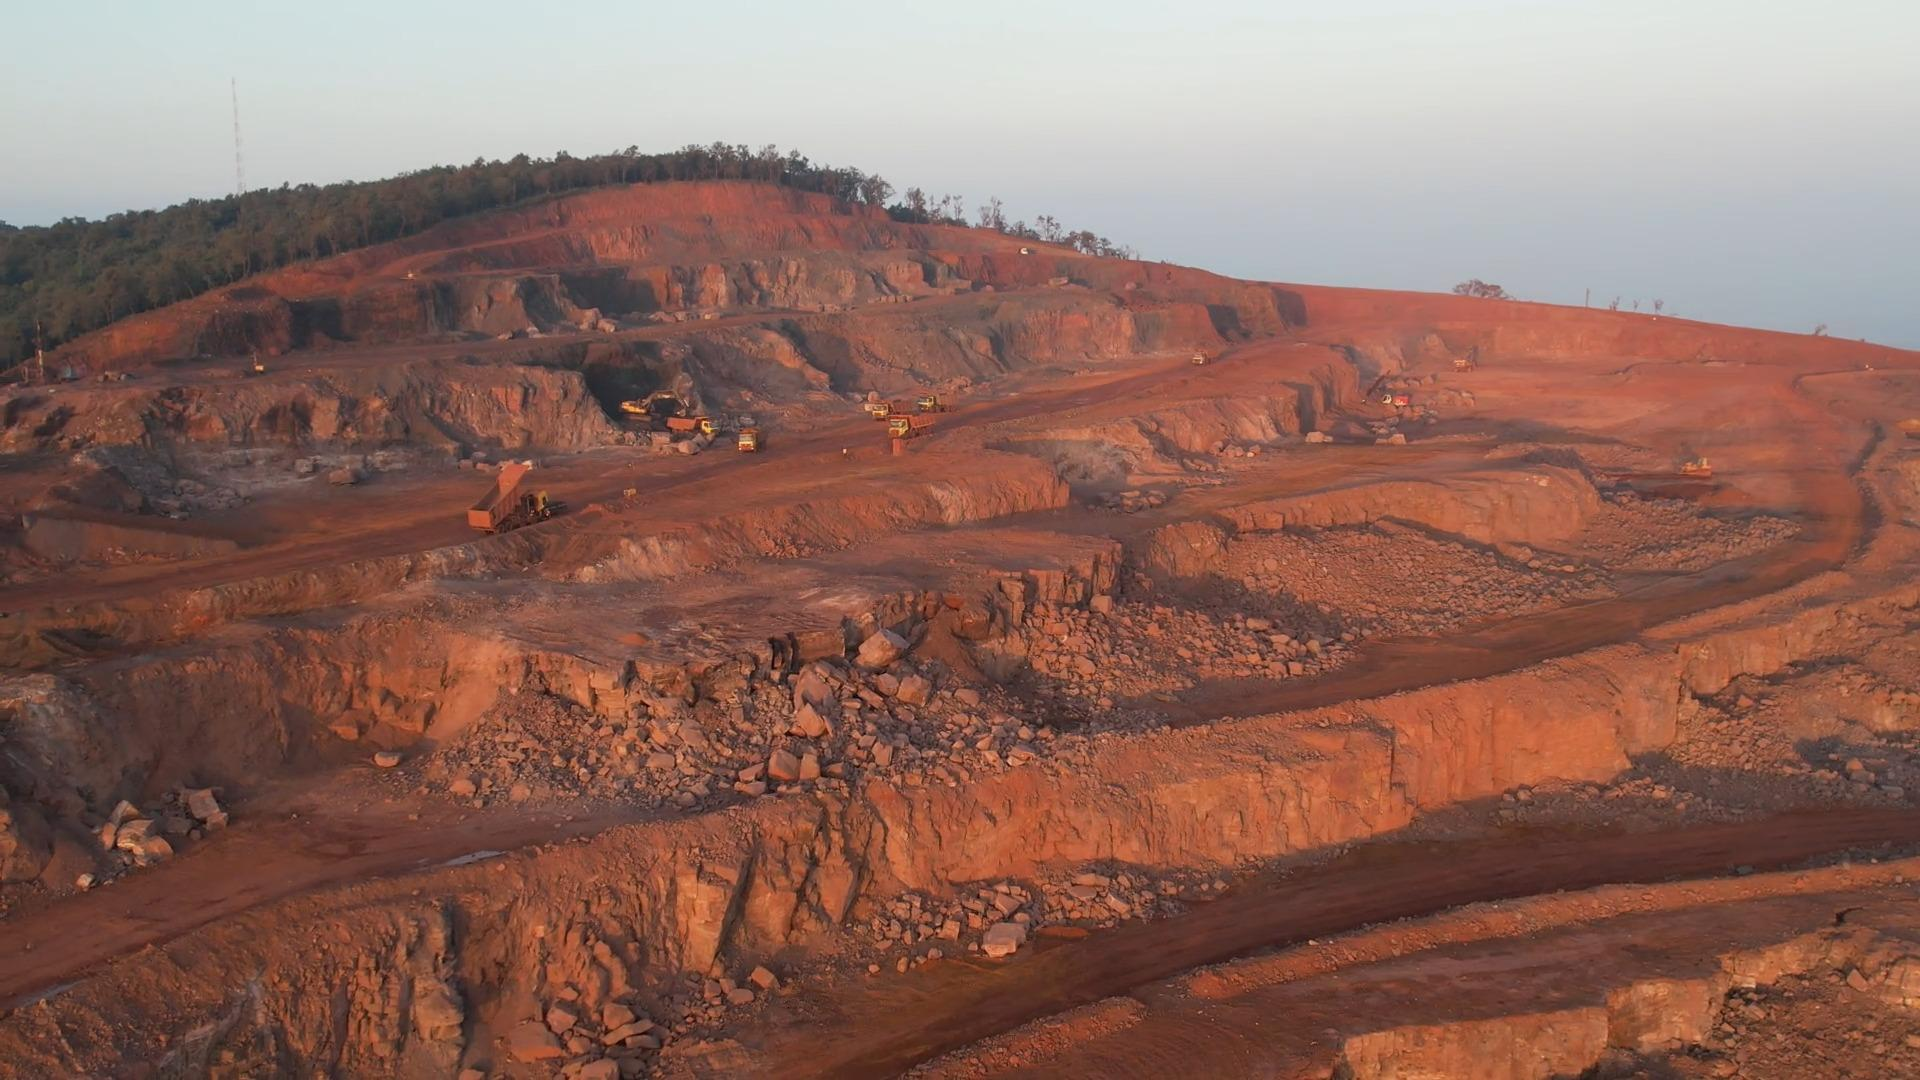excavator: (621, 389, 663, 419)
